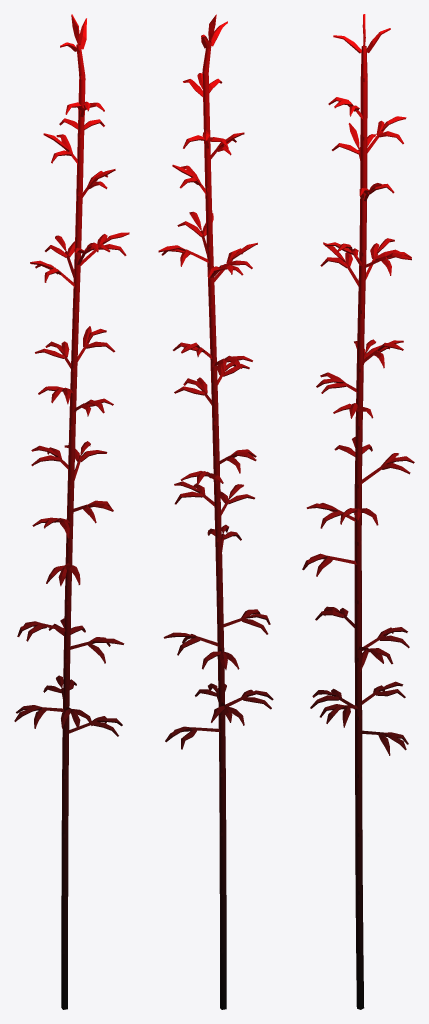
File: TreeBambooTall01.fbx
3 renders of one model, left to right at view 1: azimuth 30°, elevation 25°; view 2: azimuth 210°, elevation 25°; view 3: azimuth 330°, elevation 25°, orthographic.
Parts seen in each view (by area): view 1: TreeBambooTall01_LOD0; view 2: TreeBambooTall01_LOD0; view 3: TreeBambooTall01_LOD0.
Boxes of the visible parts, box(x1,y1,x2,y2) form: TreeBambooTall01_LOD0: box(14, 14, 129, 1009); TreeBambooTall01_LOD0: box(158, 14, 273, 1009); TreeBambooTall01_LOD0: box(302, 14, 414, 1009).
Size of what is drawn, in the model's own units: 121 by 1075 by 107.
